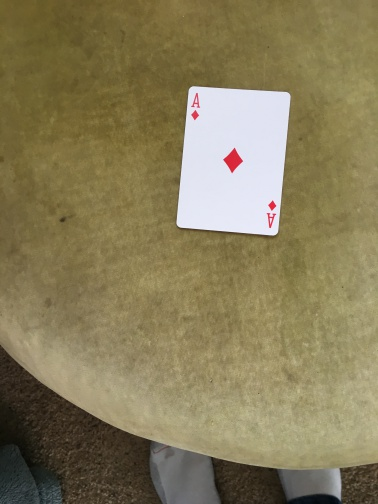ace: (175, 86, 291, 239)
